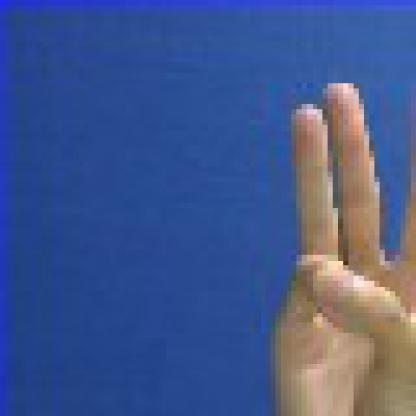three: (249, 73, 410, 411)
